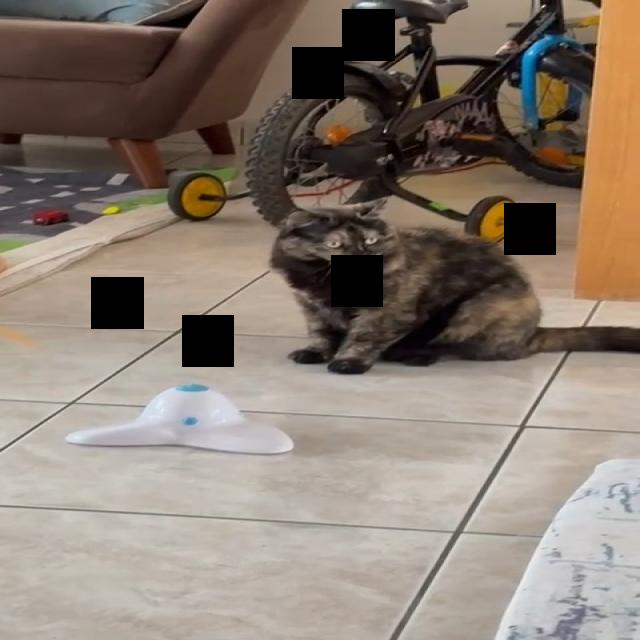authorized: (268, 197, 639, 374)
